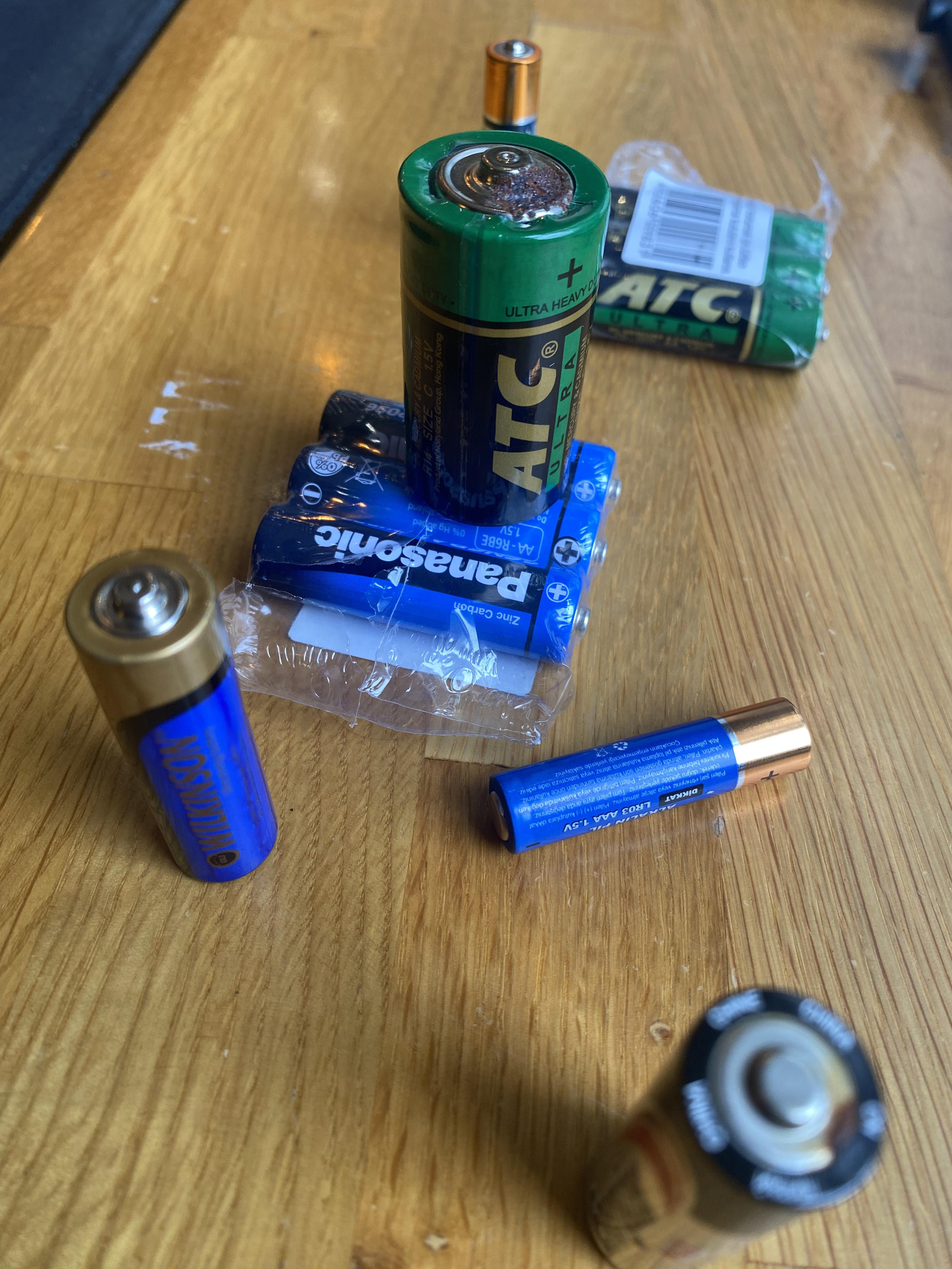AA: (61, 532, 275, 922)
AAA: (487, 695, 813, 855)
